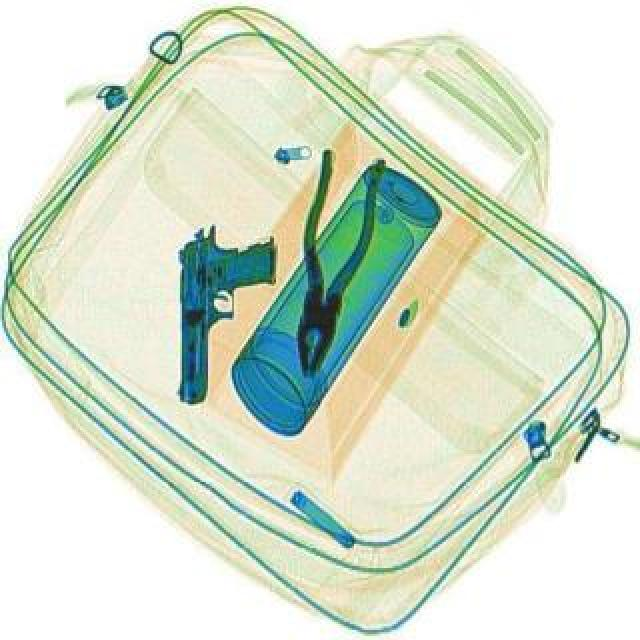gun: (174, 228, 274, 408)
wrench: (272, 148, 388, 384)
